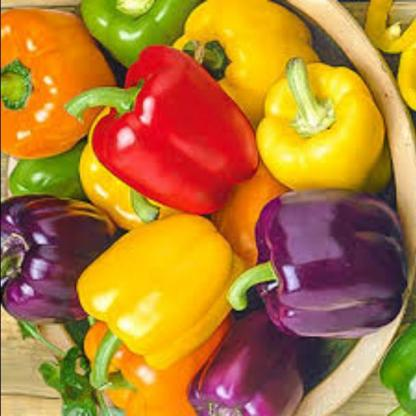bell pepper: (69, 41, 262, 223), (82, 206, 252, 377), (236, 190, 404, 344), (252, 53, 388, 208), (172, 0, 315, 129), (0, 193, 112, 330), (0, 6, 94, 162), (72, 320, 215, 416), (197, 310, 300, 415), (76, 0, 200, 73), (2, 135, 90, 213), (363, 0, 415, 105), (382, 316, 416, 416)
